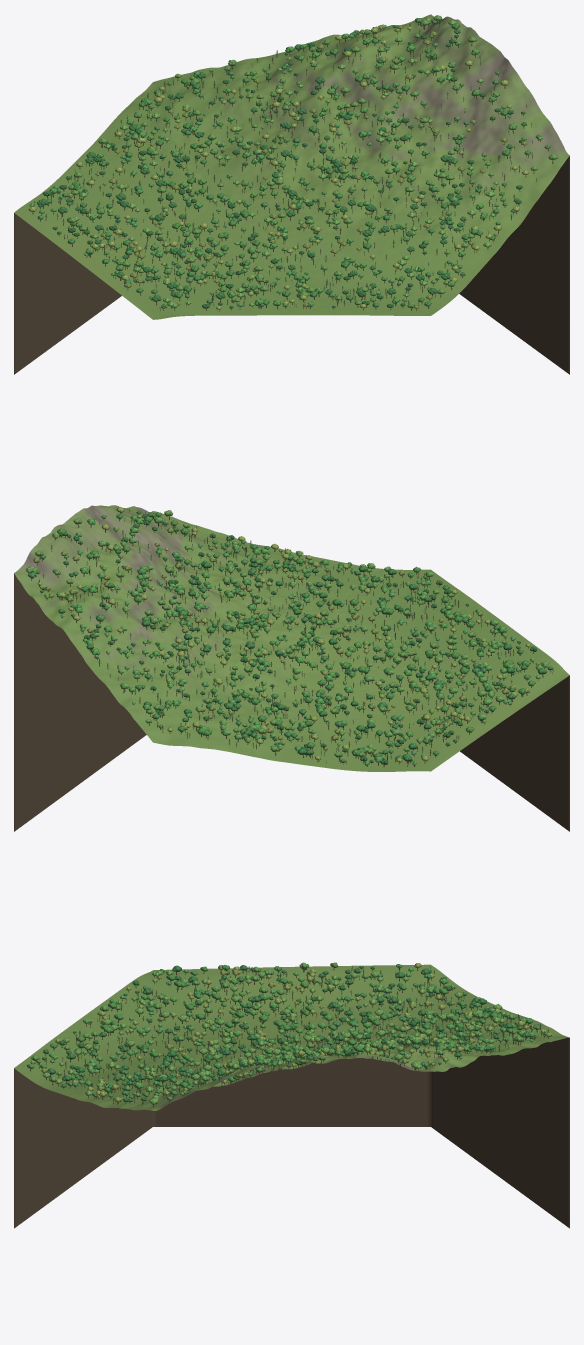
3 views of the same model, one above another, from view 1: azimuth 30°, elevation 25°; view 2: azimuth 150°, elevation 25°; view 3: azimuth 270°, elevation 25° (orthographic).
Parts seen in each view (by area): view 1: terrain, broadleaf_canopy, hex_side_cut, trunks, conifer_canopy; view 2: terrain, broadleaf_canopy, hex_side_cut, trunks, conifer_canopy; view 3: hex_side_cut, terrain, broadleaf_canopy, trunks, conifer_canopy.
Boxes of the visible parts, left/top/right/bottom form: terrain: left=14, top=14, right=569, bottom=319; broadleaf_canopy: left=28, top=15, right=557, bottom=309; hex_side_cut: left=14, top=156, right=569, bottom=374; trunks: left=32, top=21, right=553, bottom=311; conifer_canopy: left=31, top=21, right=537, bottom=308; terrain: left=14, top=505, right=569, bottom=771; broadleaf_canopy: left=25, top=507, right=553, bottom=765; hex_side_cut: left=14, top=573, right=569, bottom=831; trunks: left=31, top=510, right=553, bottom=766; conifer_canopy: left=38, top=509, right=552, bottom=763; hex_side_cut: left=14, top=1037, right=569, bottom=1228; terrain: left=14, top=964, right=569, bottom=1110; broadleaf_canopy: left=27, top=962, right=551, bottom=1104; trunks: left=30, top=966, right=548, bottom=1107; conifer_canopy: left=38, top=966, right=548, bottom=1103.
Bounding box in the file's own units: 4330 × 2770 × 5000.
Materials: 6 (1 with a texture image).
